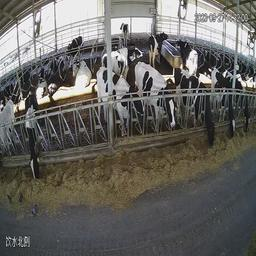cow: (93, 65, 148, 144), (132, 57, 178, 150), (173, 64, 220, 152), (21, 89, 44, 187), (211, 65, 237, 144), (101, 43, 144, 69), (175, 36, 200, 74), (147, 26, 169, 66), (238, 77, 252, 136), (71, 55, 92, 91), (48, 56, 67, 93), (31, 64, 49, 96), (66, 35, 83, 58), (119, 20, 130, 46)
